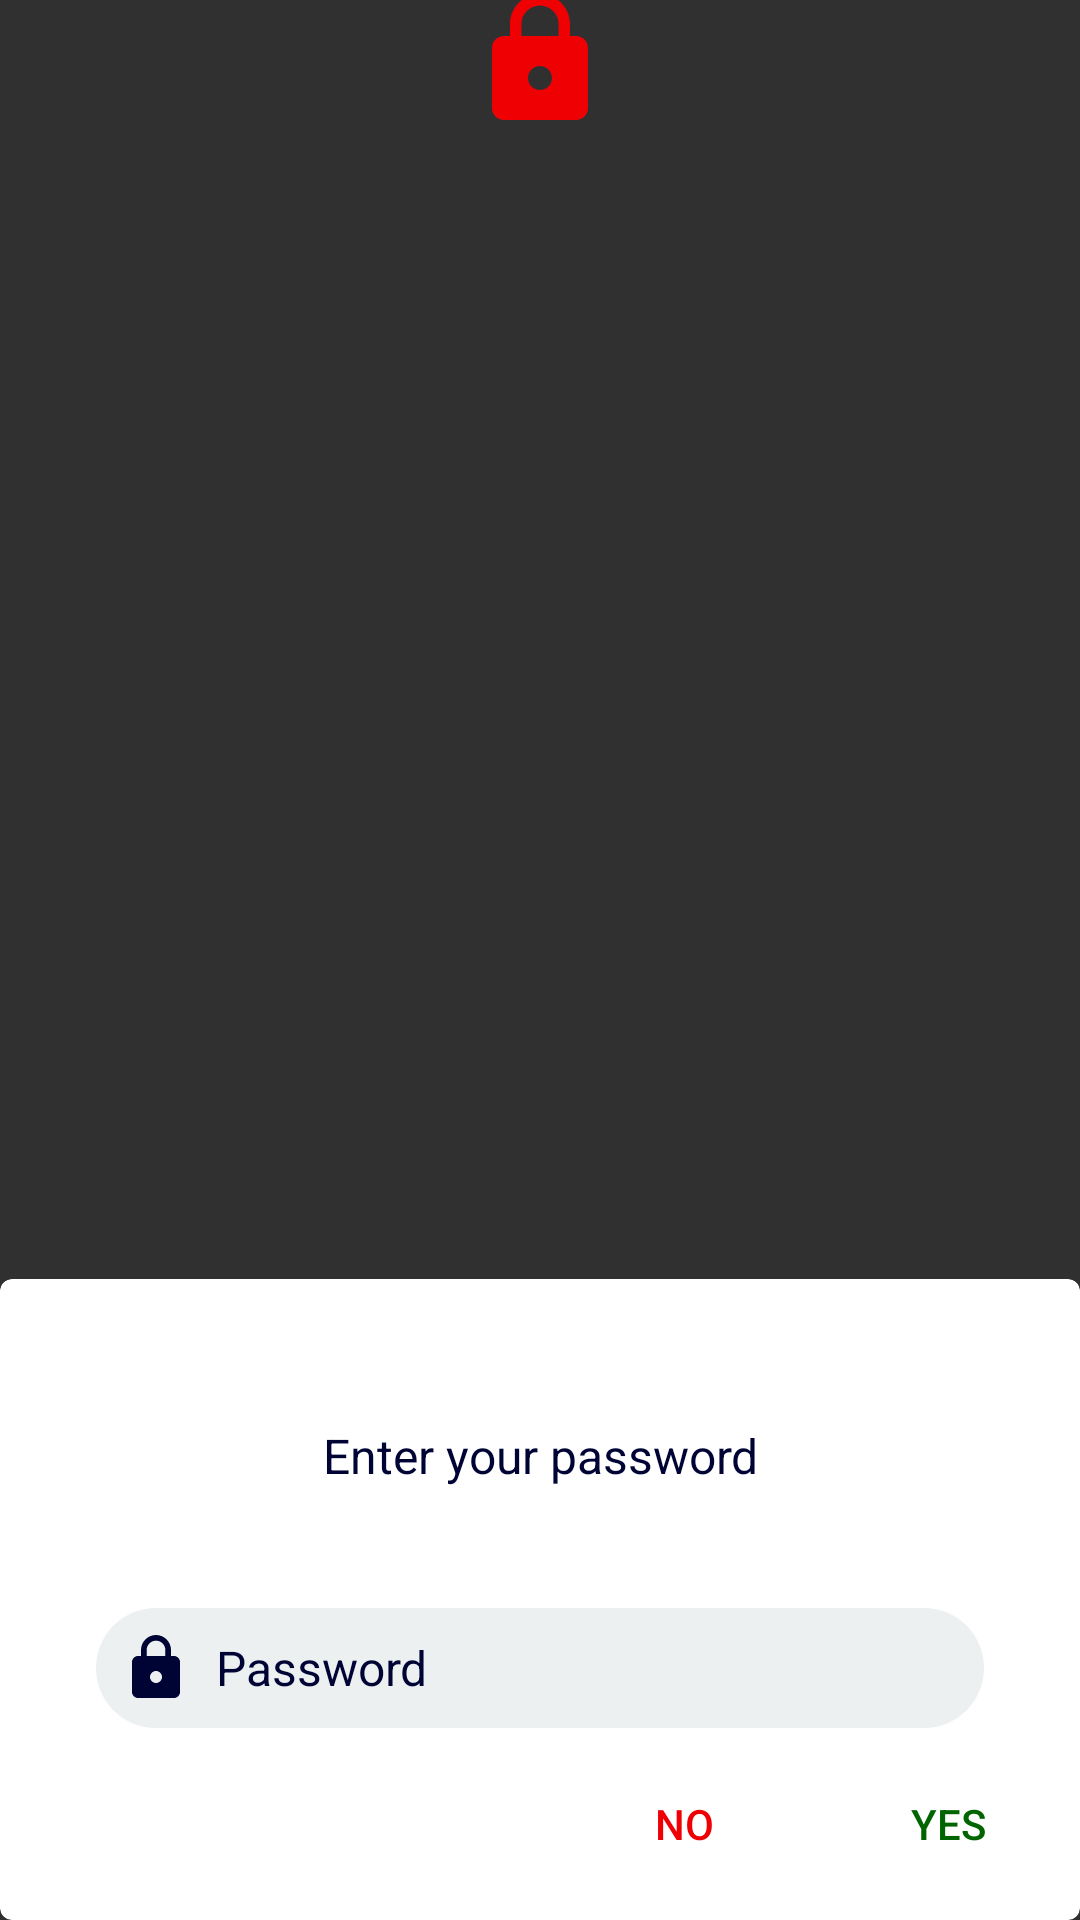

Icon click points for this 1080*1920 phone screenshot, format (x,y):
lock: (540,60)
